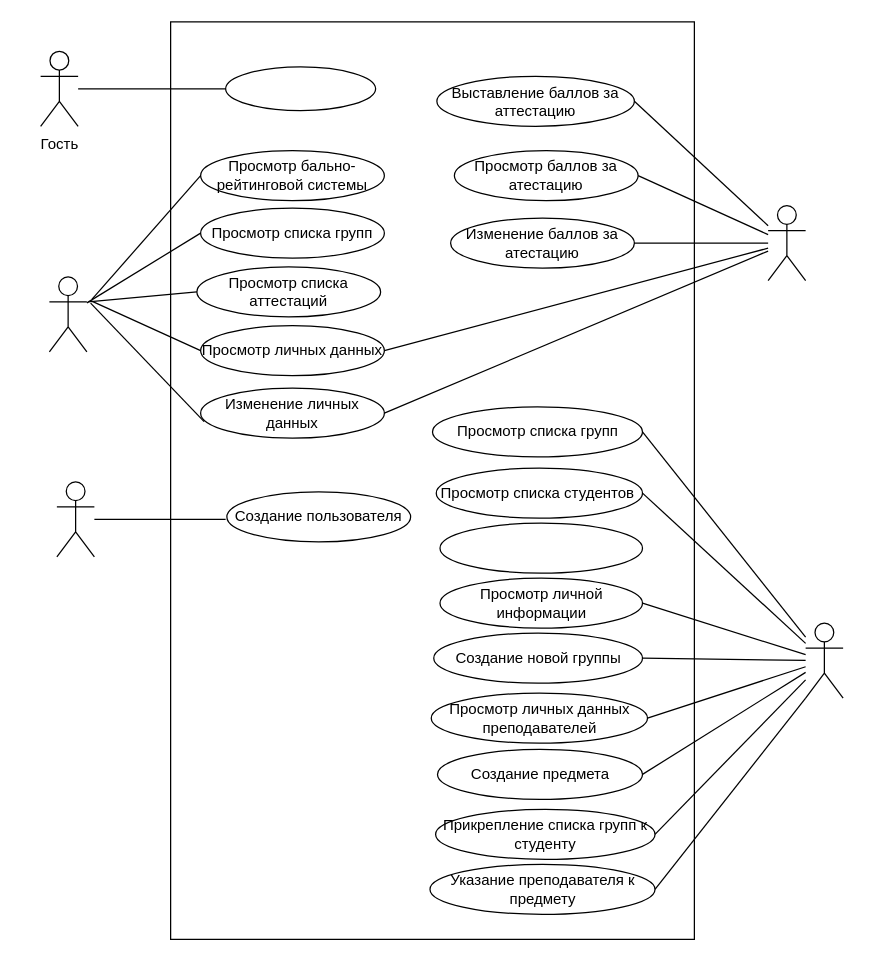
Some shapes in this 880 by 961 pixel diagram are drawn without their labels. Here are the shapes that lost their labels. From the top down, the centre of each, then its label:
At pixel 300 88: "Авторизация".
At pixel 786 242: "Преподаватель".
At pixel 67 314: "Студент".
At pixel 75 519: "Администратор".
At pixel 540 547: "Просмотр личной информации студентов".
At pixel 823 660: "Дирекция".
